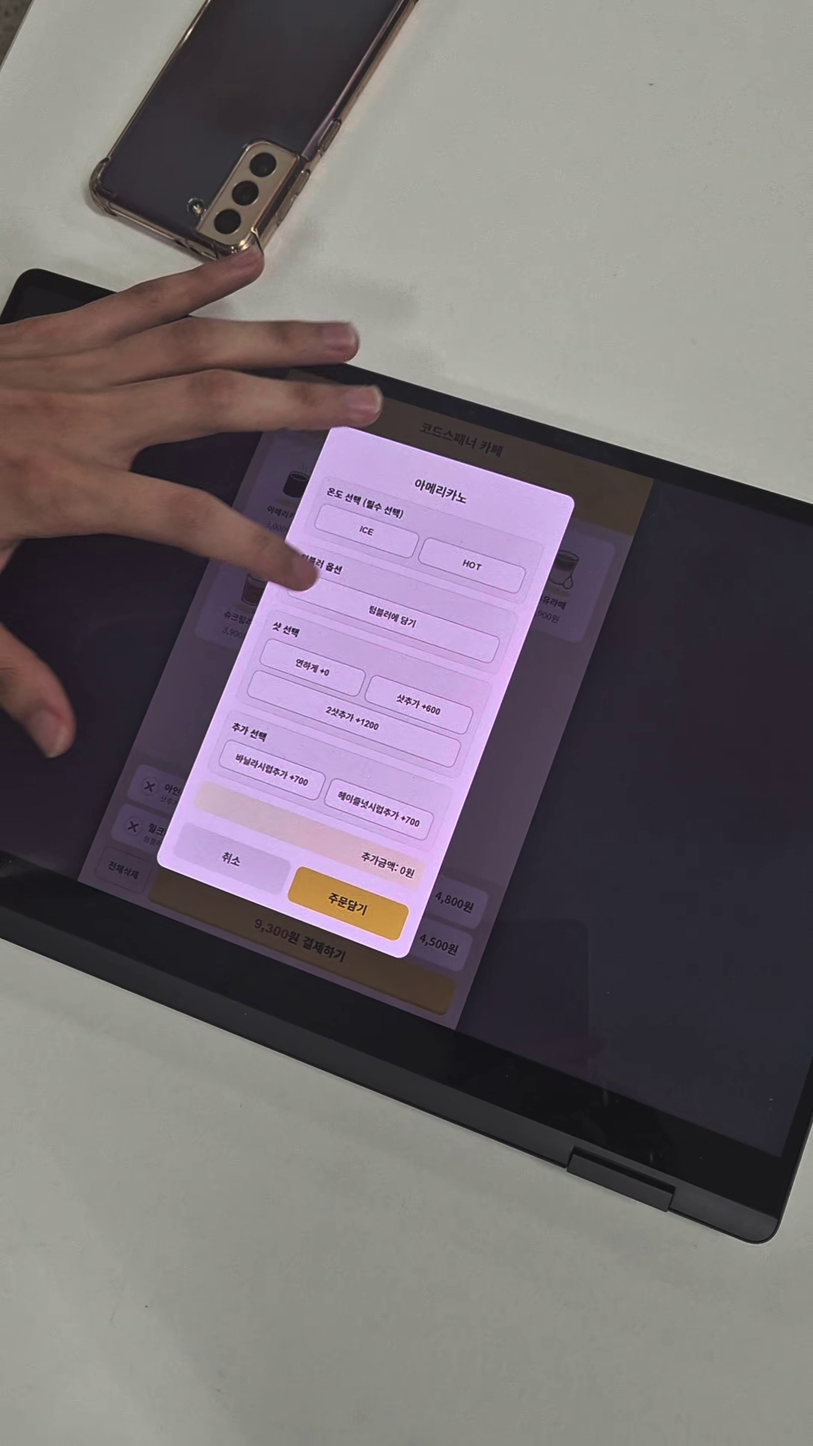action_button: (171, 824, 291, 898), (288, 869, 409, 942)
menu_name: (407, 472, 476, 513)
option_button: (244, 669, 463, 770), (287, 569, 501, 668), (322, 778, 435, 843), (362, 674, 475, 738), (417, 533, 528, 597), (218, 739, 327, 803), (258, 639, 369, 701), (313, 498, 419, 561)
